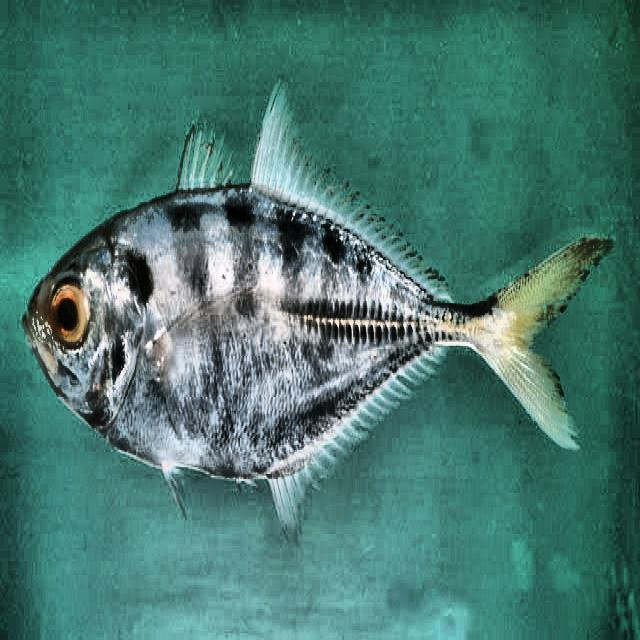fish: (21, 83, 605, 540)
